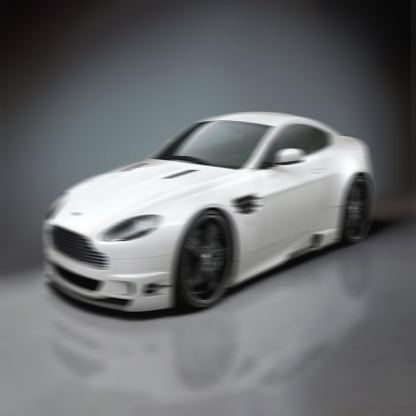Vehicle: (43, 106, 374, 318)
